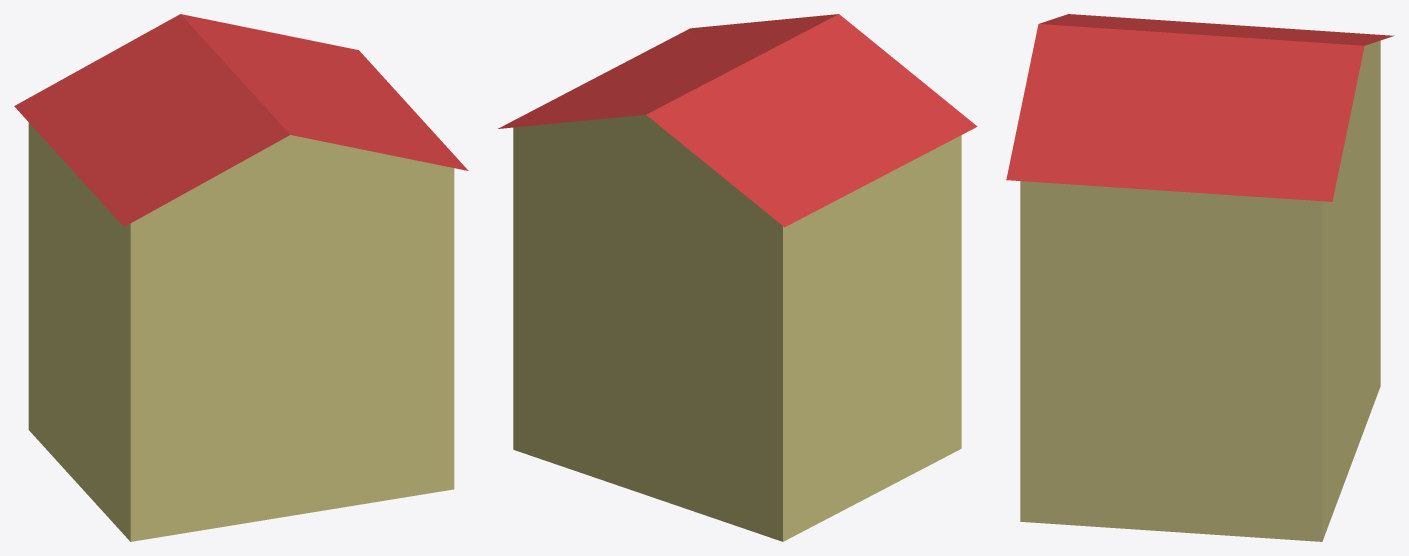
The picture shows the model from 3 angles, left to right: view 1: azimuth 30°, elevation 25°; view 2: azimuth 150°, elevation 25°; view 3: azimuth 270°, elevation 25°; orthographic projection. The views are drawn at different scales.
Visible parts, largest first — view 1: group_5, group_3, group_4; view 2: group_5, group_3, group_4; view 3: group_5, group_3, group_4.
Boxes of the visible parts, <box> form: group_5: <box>28,122,454,541</box>; group_3: <box>14,14,453,226</box>; group_4: <box>118,14,468,226</box>; group_5: <box>513,115,961,541</box>; group_3: <box>498,15,976,227</box>; group_4: <box>500,14,977,133</box>; group_5: <box>1020,40,1380,541</box>; group_3: <box>1020,14,1394,201</box>; group_4: <box>1006,14,1364,201</box>.
Bounding box in the file's own units: 9.1 × 7.94 × 9.39.
